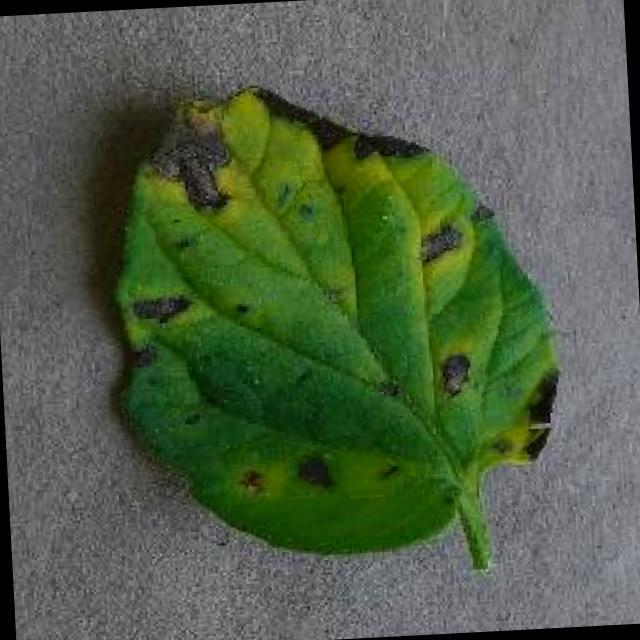Tomato Early blight leaf: (89, 73, 572, 563)
